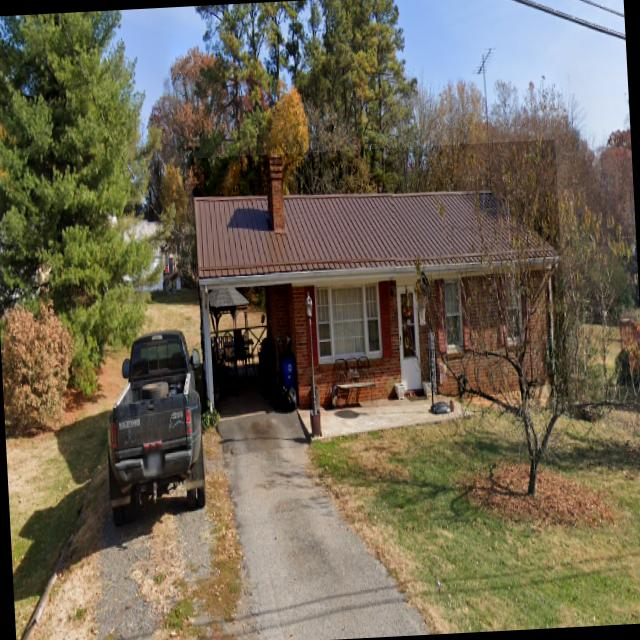House: (192, 140, 568, 416)
